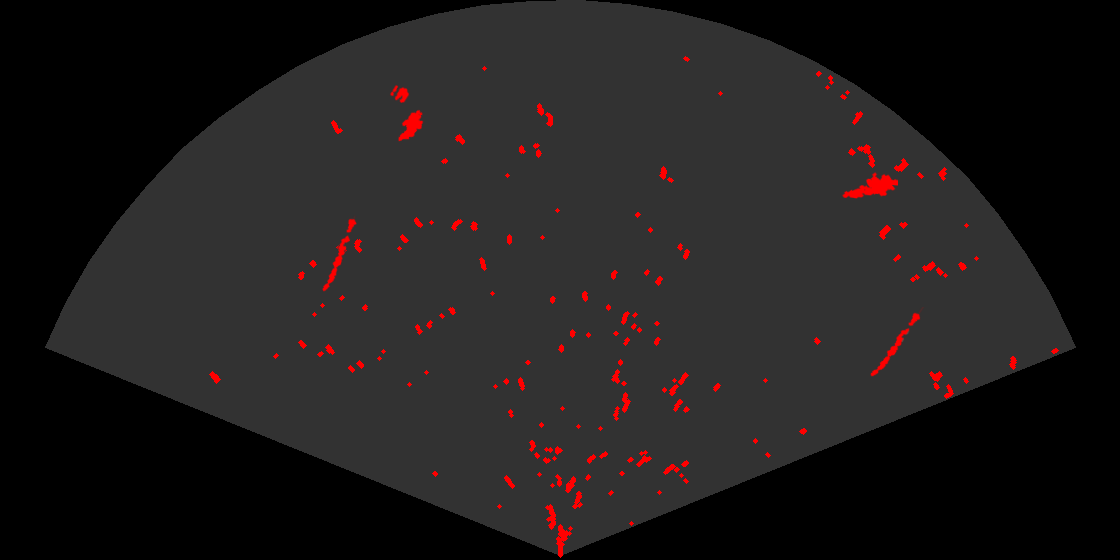AUV: (396, 108, 425, 143)
ball: (388, 83, 411, 104)
chain: (869, 307, 926, 378), (321, 215, 358, 293)
frogman: (840, 170, 898, 200)
